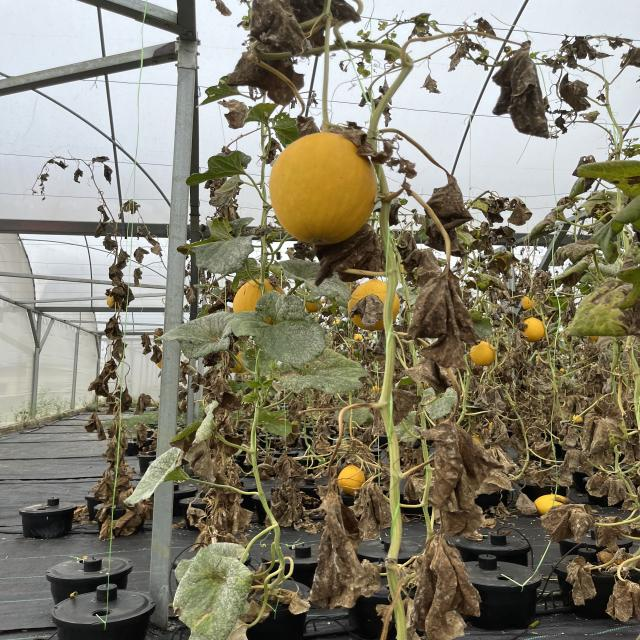alternaria leaf blight: (573, 154, 640, 202), (582, 205, 618, 223)
bacterial wilt: (423, 424, 513, 530), (485, 42, 556, 141), (409, 272, 482, 361), (406, 536, 469, 636), (314, 497, 362, 603), (572, 276, 640, 348), (232, 54, 316, 102), (317, 225, 383, 275), (245, 0, 308, 52), (296, 0, 366, 45), (424, 184, 471, 246), (362, 472, 399, 544), (577, 397, 628, 449), (196, 505, 257, 544), (200, 458, 254, 501), (530, 202, 580, 236), (565, 563, 601, 608), (545, 504, 593, 537), (399, 247, 444, 281), (270, 482, 301, 530), (558, 76, 594, 114), (607, 581, 640, 621), (564, 34, 608, 62), (595, 516, 630, 550), (394, 384, 426, 420), (351, 294, 386, 326), (551, 239, 593, 263), (445, 41, 476, 73), (278, 451, 310, 481), (216, 100, 249, 129), (97, 472, 133, 498), (602, 546, 635, 572), (480, 198, 507, 229), (92, 362, 117, 394), (414, 14, 444, 40), (129, 423, 154, 453), (525, 398, 550, 427), (513, 365, 541, 390), (468, 384, 497, 408), (510, 202, 536, 227), (394, 154, 418, 181), (398, 230, 420, 256), (533, 430, 554, 457), (216, 202, 244, 222), (471, 18, 496, 40), (416, 74, 441, 96), (116, 511, 142, 532), (476, 272, 506, 290), (87, 410, 106, 438), (132, 391, 155, 414), (559, 395, 586, 413), (95, 498, 118, 519), (261, 140, 282, 163), (564, 442, 580, 472), (296, 116, 320, 136), (111, 388, 130, 412), (138, 332, 155, 358), (106, 440, 128, 460), (586, 369, 605, 392), (506, 348, 524, 371), (623, 43, 640, 67), (108, 460, 135, 475), (609, 477, 625, 501), (104, 319, 124, 338), (105, 265, 126, 283), (208, 175, 230, 192), (342, 126, 365, 142), (108, 342, 128, 360), (387, 200, 402, 224), (98, 517, 115, 538), (532, 466, 554, 482), (119, 200, 142, 215), (378, 140, 396, 159), (96, 204, 112, 225), (147, 344, 161, 366), (116, 250, 134, 267), (133, 246, 148, 265), (99, 236, 116, 252), (500, 225, 517, 241), (500, 249, 515, 267), (381, 104, 395, 123), (481, 223, 494, 243), (594, 476, 608, 494), (107, 420, 120, 439), (557, 469, 570, 488), (101, 164, 112, 185), (376, 81, 392, 95), (45, 160, 67, 170), (108, 286, 126, 298), (132, 225, 146, 239), (74, 169, 86, 185), (92, 225, 108, 237), (132, 266, 142, 284), (360, 142, 372, 157)
powdery mildew: (164, 552, 255, 634), (240, 295, 325, 363), (186, 227, 264, 282), (268, 352, 366, 393), (162, 312, 236, 358), (276, 258, 350, 302)
